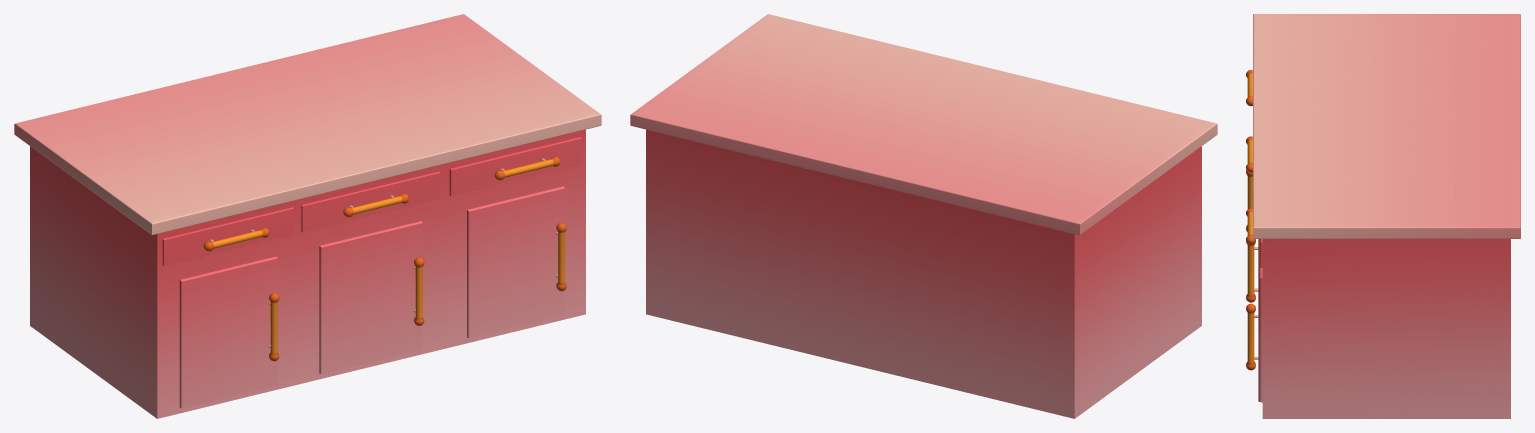
The model's file is Table.fbx.
The picture shows the model from 3 angles, left to right: view 1: azimuth 30°, elevation 25°; view 2: azimuth 150°, elevation 25°; view 3: azimuth 270°, elevation 25°; orthographic projection. The views are drawn at different scales.
Visible parts, largest first — view 1: Table; view 2: Table; view 3: Table.
Part boxes in pixels (x1,y1,x2,y2): Table: (14, 14, 601, 418); Table: (630, 14, 1217, 418); Table: (1246, 14, 1520, 418).
Bounding box in the file's own units: 34.99 × 14.98 × 18.99.
